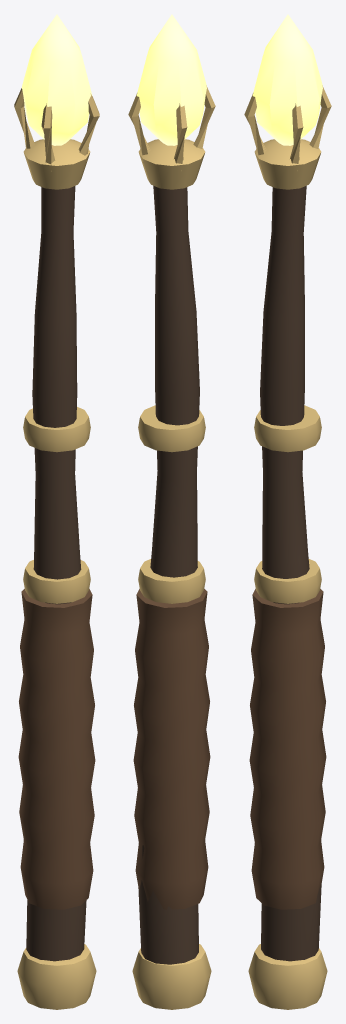
The model's file is stormglass_wand.glb.
3 renders of one model, left to right at view 1: azimuth 30°, elevation 25°; view 2: azimuth 150°, elevation 25°; view 3: azimuth 330°, elevation 25°, orthographic.
Visible parts, largest first — view 1: stormglass_wand; view 2: stormglass_wand; view 3: stormglass_wand.
Part boxes in pixels (bbox=[...]): stormglass_wand: bbox=[14, 14, 99, 1009]; stormglass_wand: bbox=[128, 14, 215, 1009]; stormglass_wand: bbox=[244, 14, 331, 1009].
Bounding box in the file's own units: 0.026 × 0.36 × 0.026.
